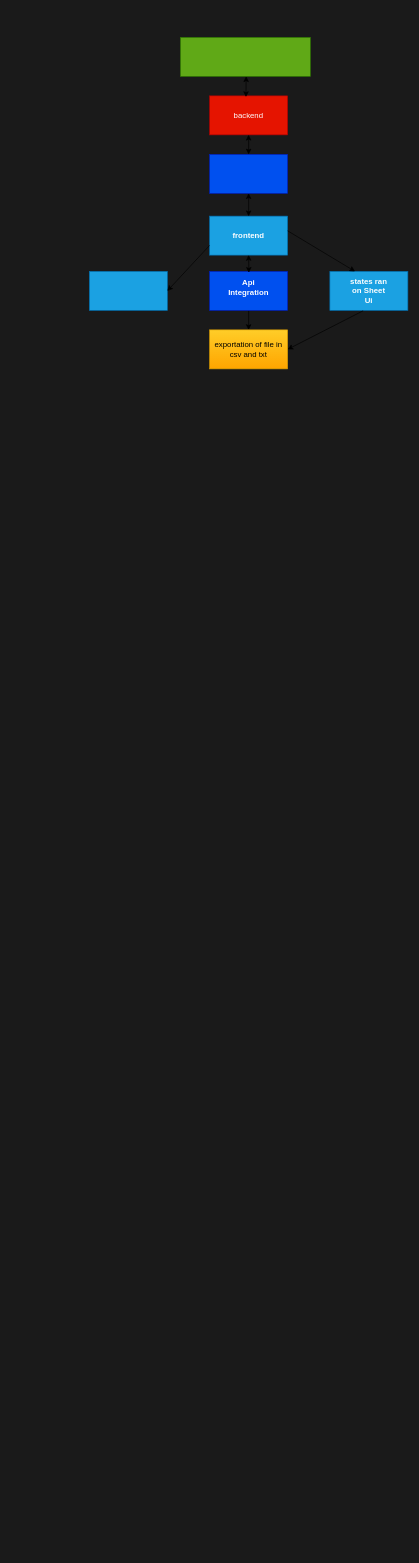
The diagram is 419 pixels wide and 1563 high, and some of its shapes have lost their labels. The shapes that lost their labels are listed below. From the top down, each one's box as (x1, y1, x2, y2) in pixels, then its label:
(180, 37, 310, 76): Data Base
(209, 154, 288, 193): API
(89, 271, 167, 310): Sheet Ui
